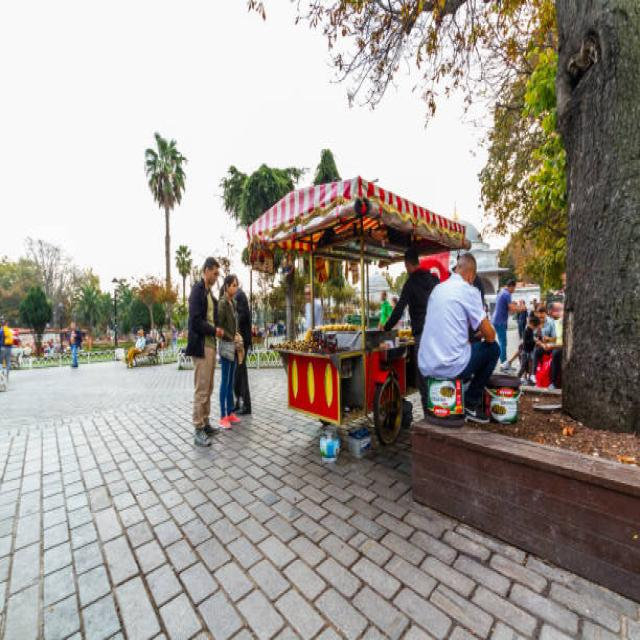Emperan: (240, 174, 478, 459)
